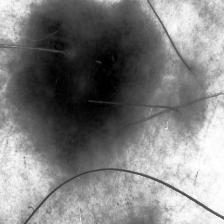Benign Marking or Mole: (7, 0, 162, 160)
